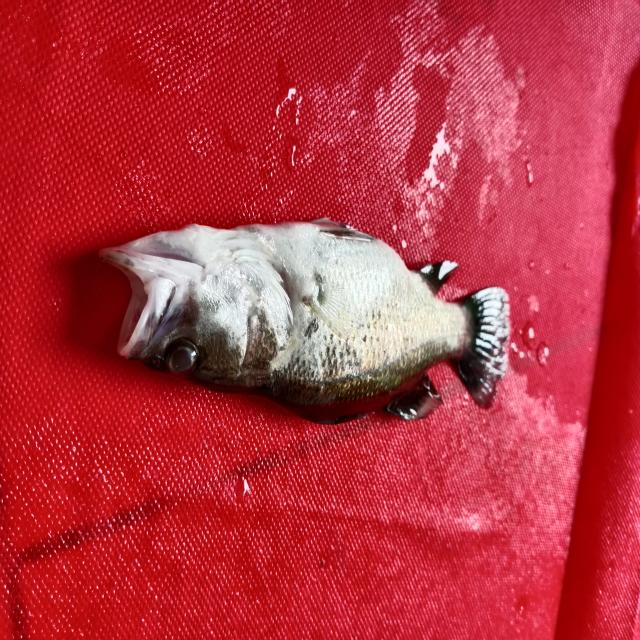ikan: (78, 179, 532, 432)
